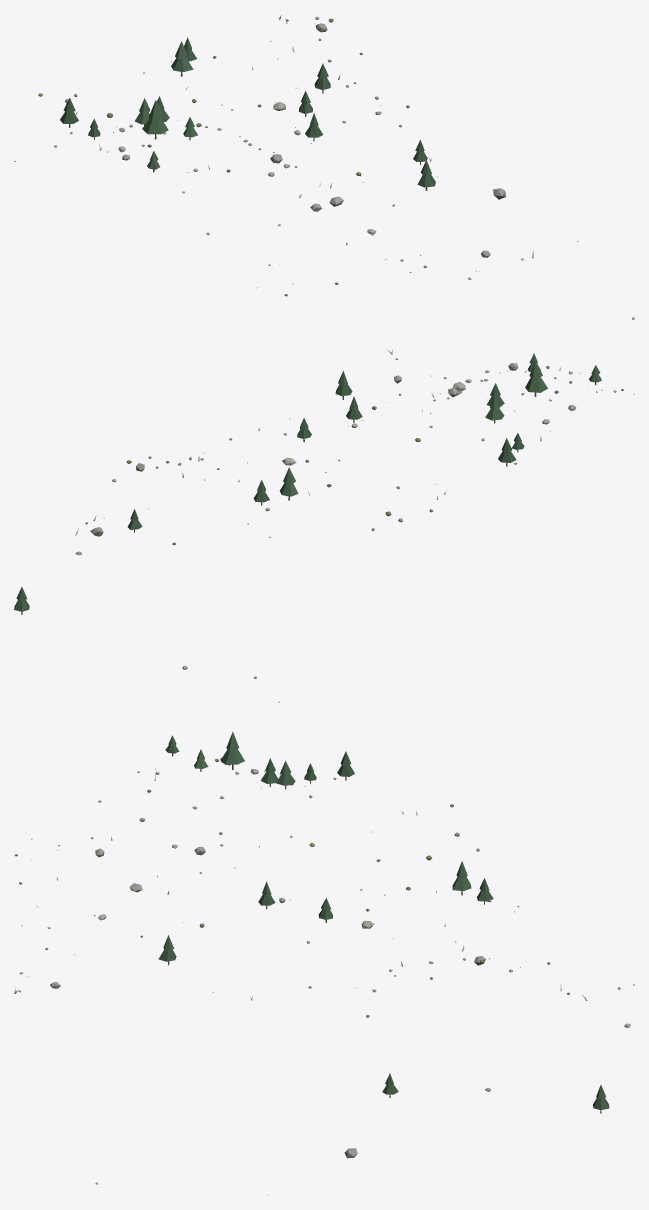
The model's file is coast_land_scatter_c11_15_lod1.glb.
The picture shows the model from 3 angles, top to bottom: view 1: azimuth 30°, elevation 25°; view 2: azimuth 150°, elevation 25°; view 3: azimuth 270°, elevation 25°; orthographic projection. The views are drawn at different scales.
Parts seen in each view (by area): view 1: coast_land_scatter_c11_15_lod1; view 2: coast_land_scatter_c11_15_lod1; view 3: coast_land_scatter_c11_15_lod1.
Part boxes in pixels (box(x1,y1,x2,y2)): coast_land_scatter_c11_15_lod1: box(14, 15, 634, 319); coast_land_scatter_c11_15_lod1: box(14, 349, 634, 702); coast_land_scatter_c11_15_lod1: box(14, 731, 634, 1195).
Size of the model in its own units: 200 by 107 by 231.
